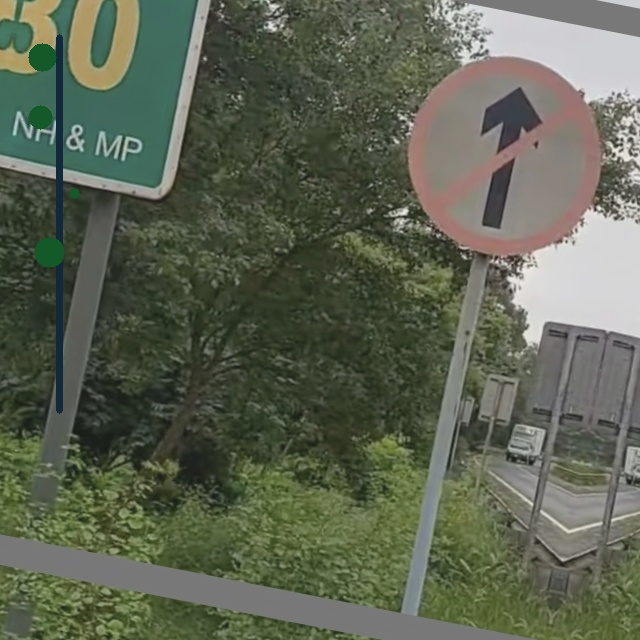No_Entry: (393, 39, 621, 268)
